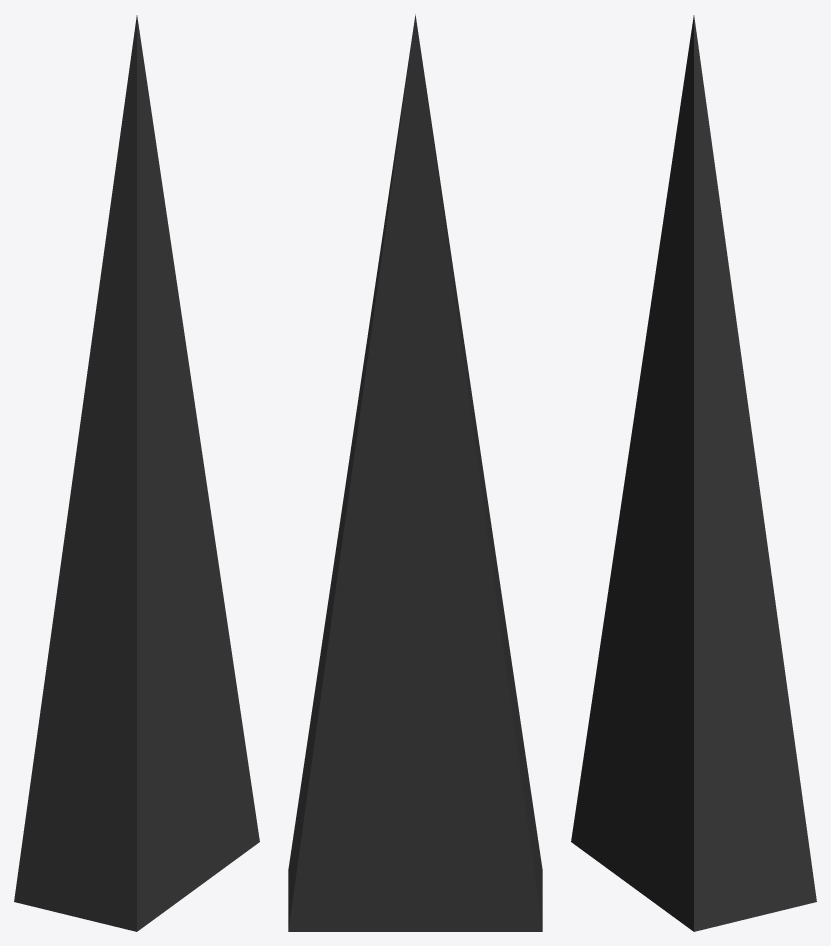
File: Stal_1A_LOD.fbx
3 renders of one model, left to right at view 1: azimuth 30°, elevation 25°; view 2: azimuth 150°, elevation 25°; view 3: azimuth 270°, elevation 25°, orthographic. The views are drawn at different scales.
Visible parts, largest first — view 1: pCone39; view 2: pCone39; view 3: pCone39.
Part boxes in pixels (bbox=[...]): pCone39: bbox=[14, 15, 259, 931]; pCone39: bbox=[288, 14, 542, 931]; pCone39: bbox=[571, 15, 816, 931].
Size of the model in its own units: 0.3 by 1 by 0.2598.
